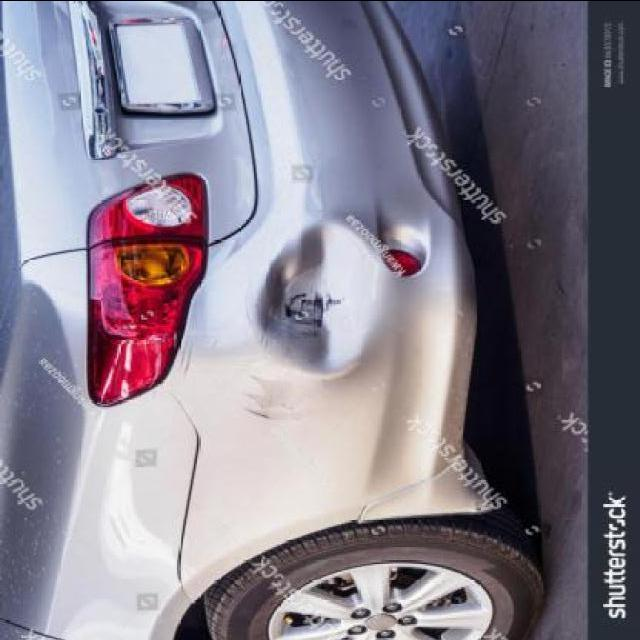rear-bumper-dent: (173, 131, 492, 584)
